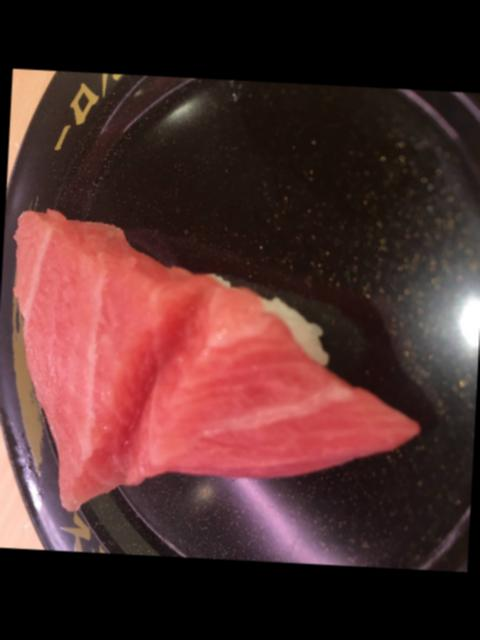janback: (10, 69, 480, 572)
